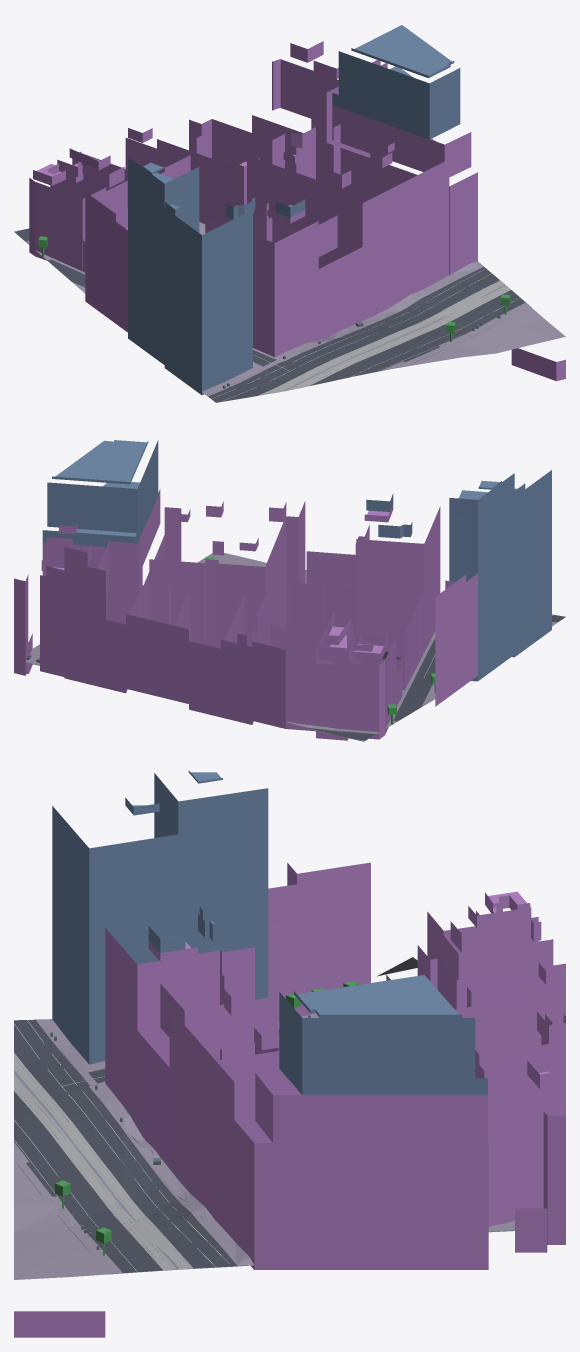
3 views of the same model, one above another, from view 1: azimuth 30°, elevation 25°; view 2: azimuth 150°, elevation 25°; view 3: azimuth 270°, elevation 25° (orthographic). The views are drawn at different scales.
Visible parts, largest first — view 1: compiled-chunk; view 2: compiled-chunk; view 3: compiled-chunk.
Boxes of the visible parts, x1,y1,x2,y2 form: compiled-chunk: [14, 25, 565, 402]; compiled-chunk: [14, 440, 565, 741]; compiled-chunk: [14, 770, 565, 1337].
Bounding box in the file's own units: 139 × 80.1 × 120.
